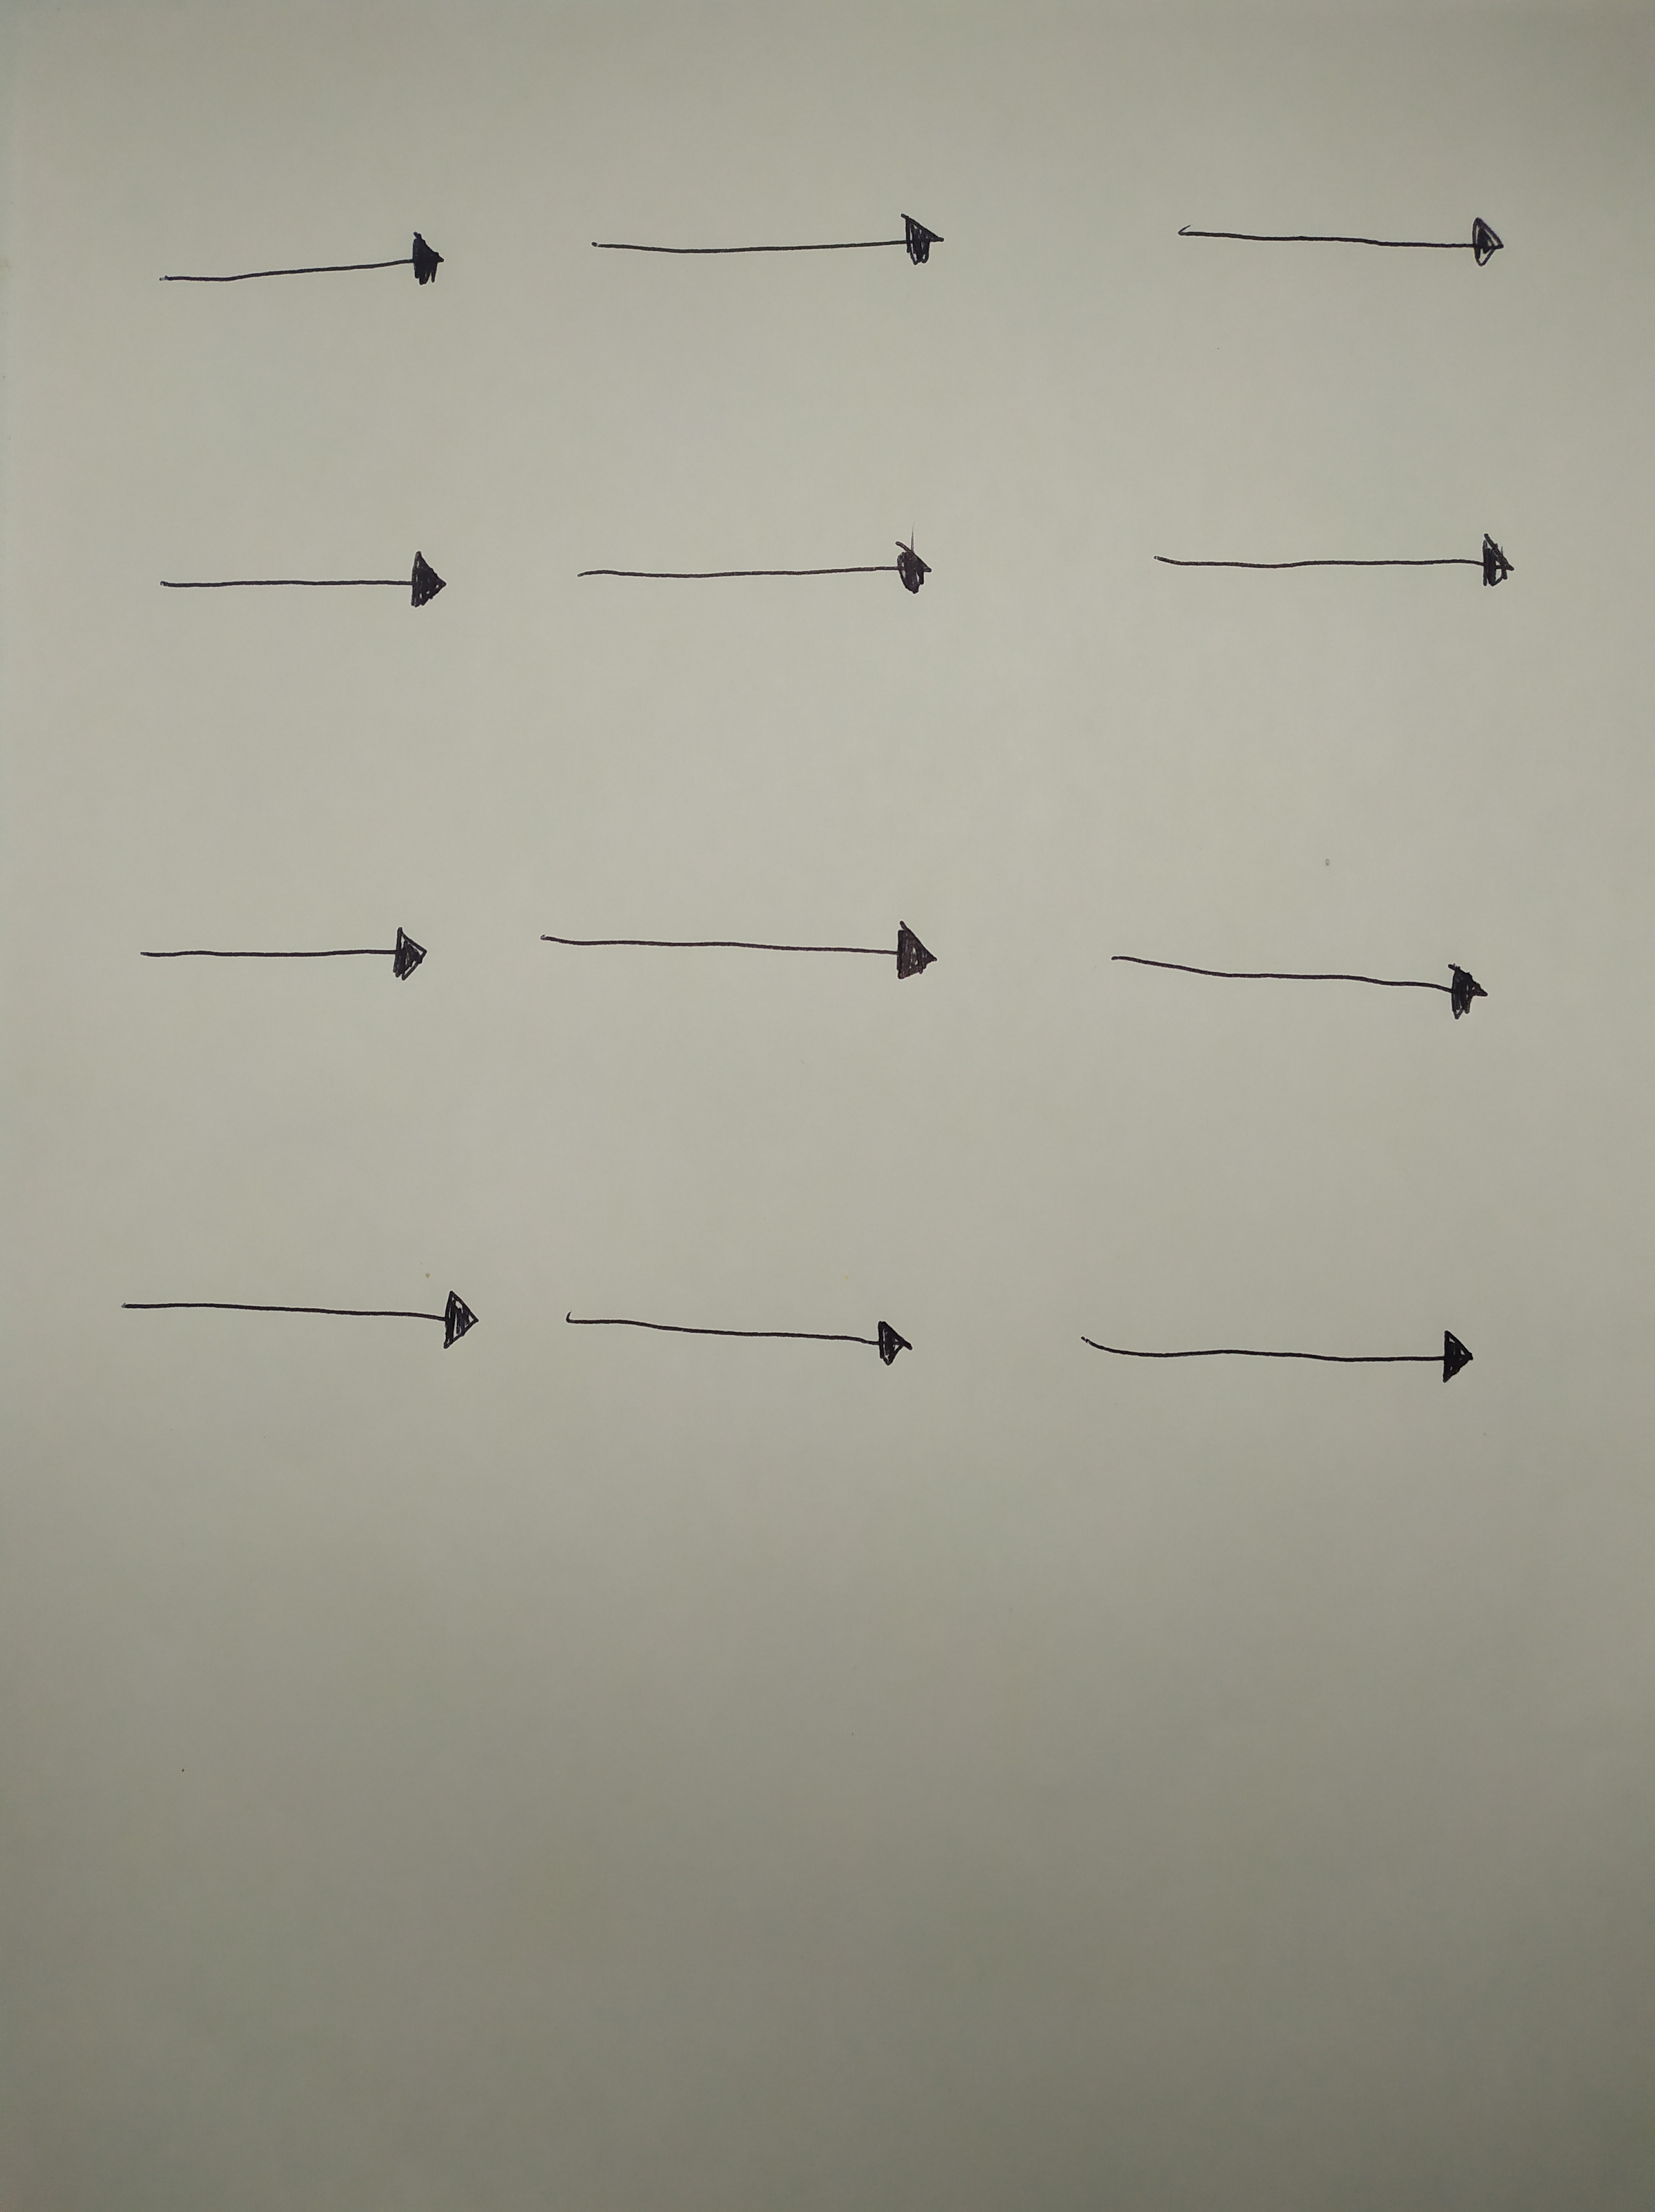arrow_line_right: (1040, 1300, 1528, 1414), (508, 884, 972, 1004), (1073, 912, 1516, 1034), (534, 1281, 939, 1397), (1116, 500, 1561, 603), (1151, 170, 1528, 278), (558, 516, 960, 615), (97, 1267, 499, 1366), (556, 193, 980, 281), (118, 904, 469, 997), (146, 207, 471, 306), (134, 542, 504, 629)
